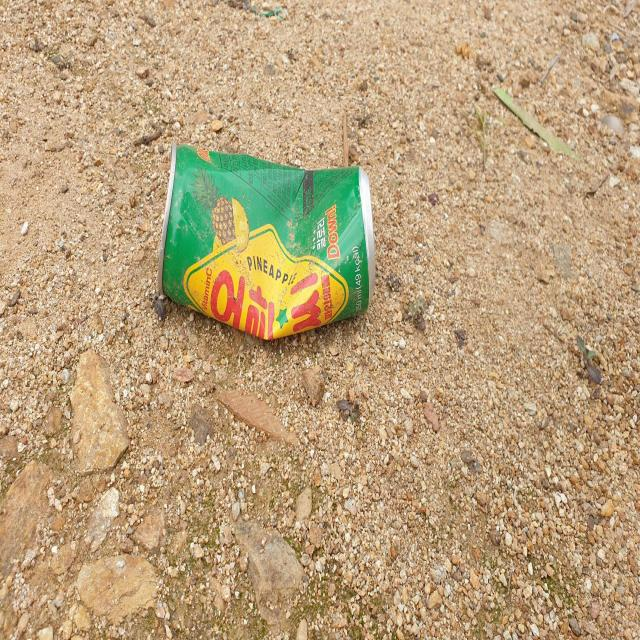can: (157, 142, 376, 339)
